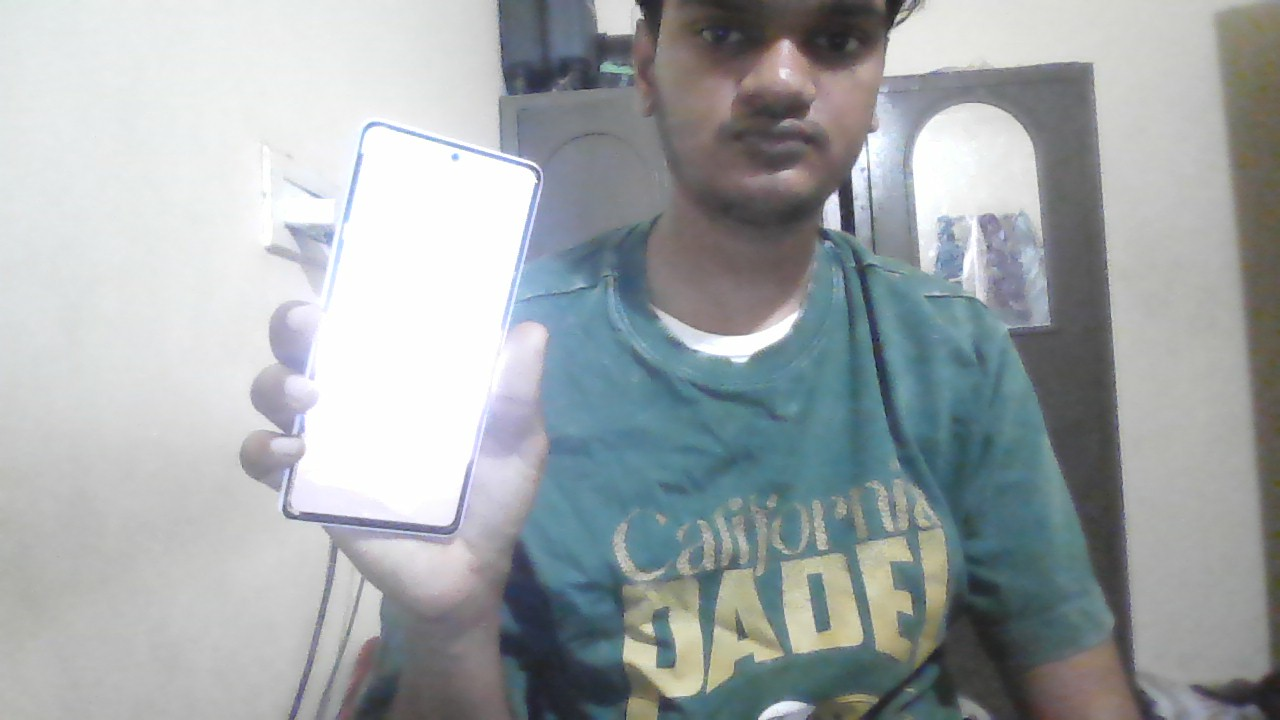phone: (338, 122, 519, 440)
